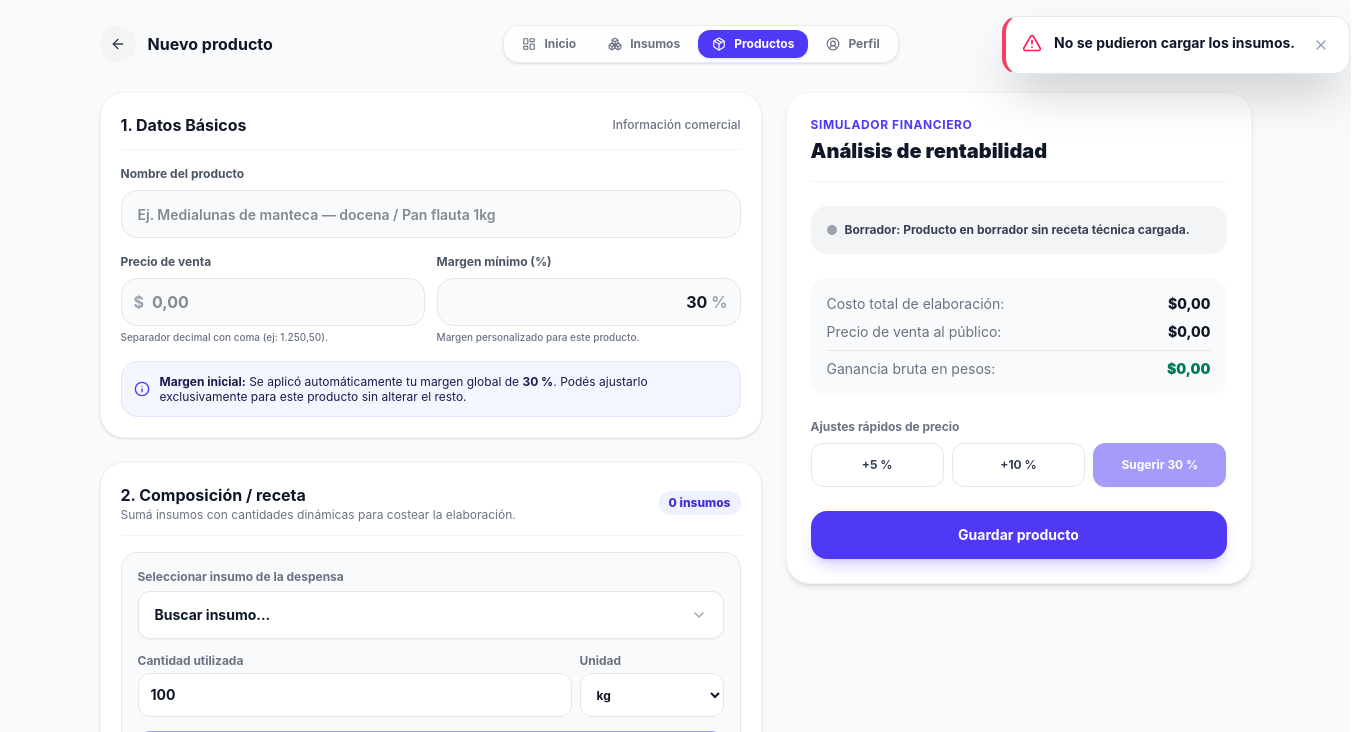
Test: NewProductPage - avisos de error (#364) › si no cargan los insumos, el error se anuncia como alerta y se puede cerrar con la X
The image size is (1366, 732).
expect the message reads "No se pudieron cargar los insumos.": met, box left=1054, top=34, right=1295, bottom=51
Click the button named "Cerrar notificación". click: x=1321, y=45
box: left=1309, top=33, right=1333, bottom=57
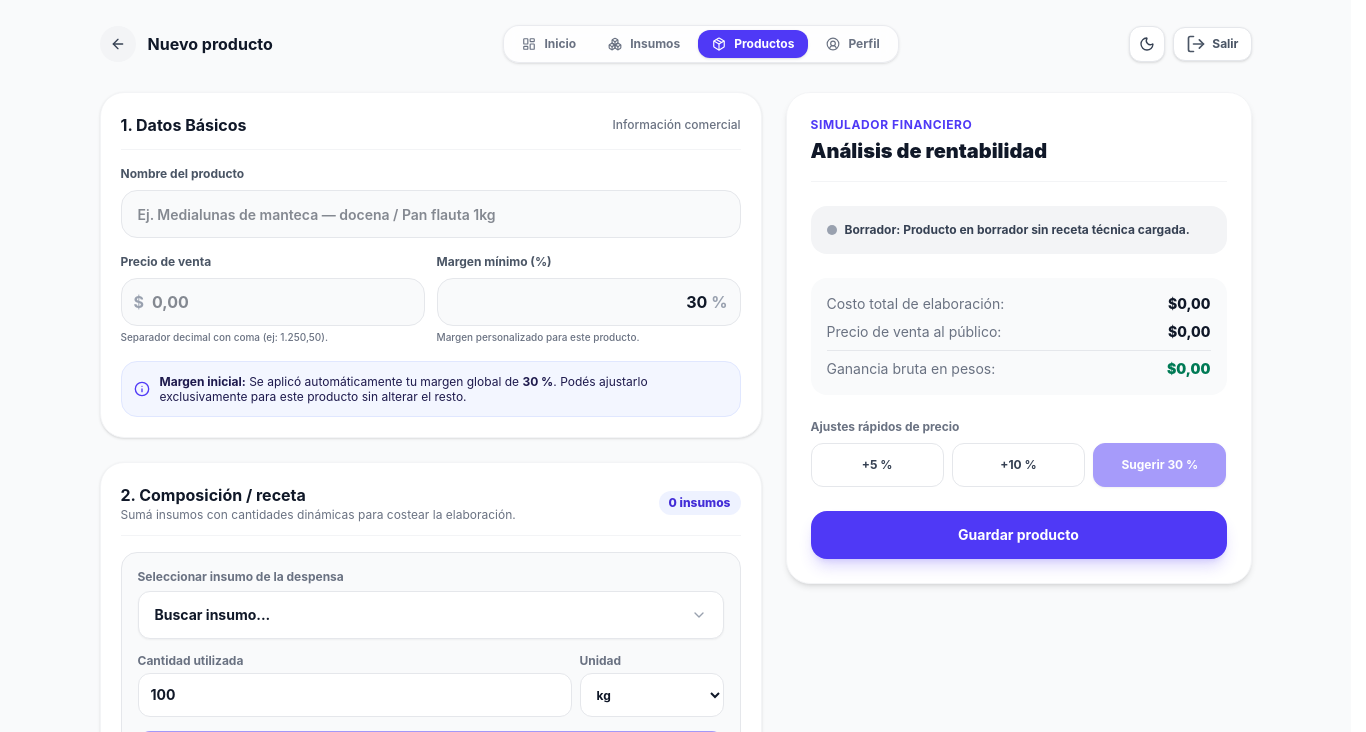
expect the text "No se pudieron cargar los insumos." is gone: met
